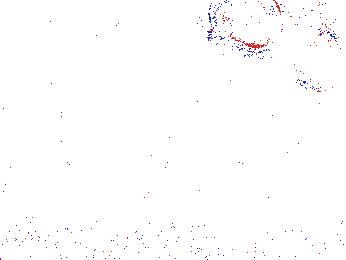moon jellyfish: (208, 1, 285, 53), (257, 10, 315, 74), (51, 28, 99, 97), (295, 34, 345, 93), (28, 1, 115, 24), (1, 37, 29, 99)
